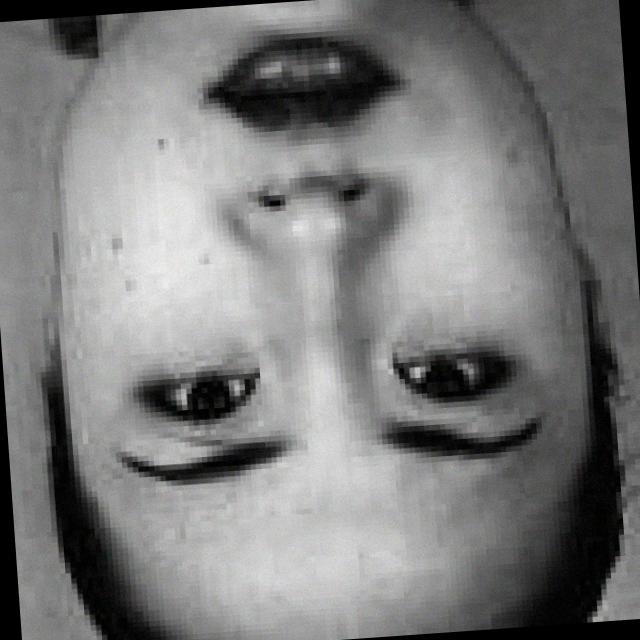disgust: (22, 0, 594, 589)
